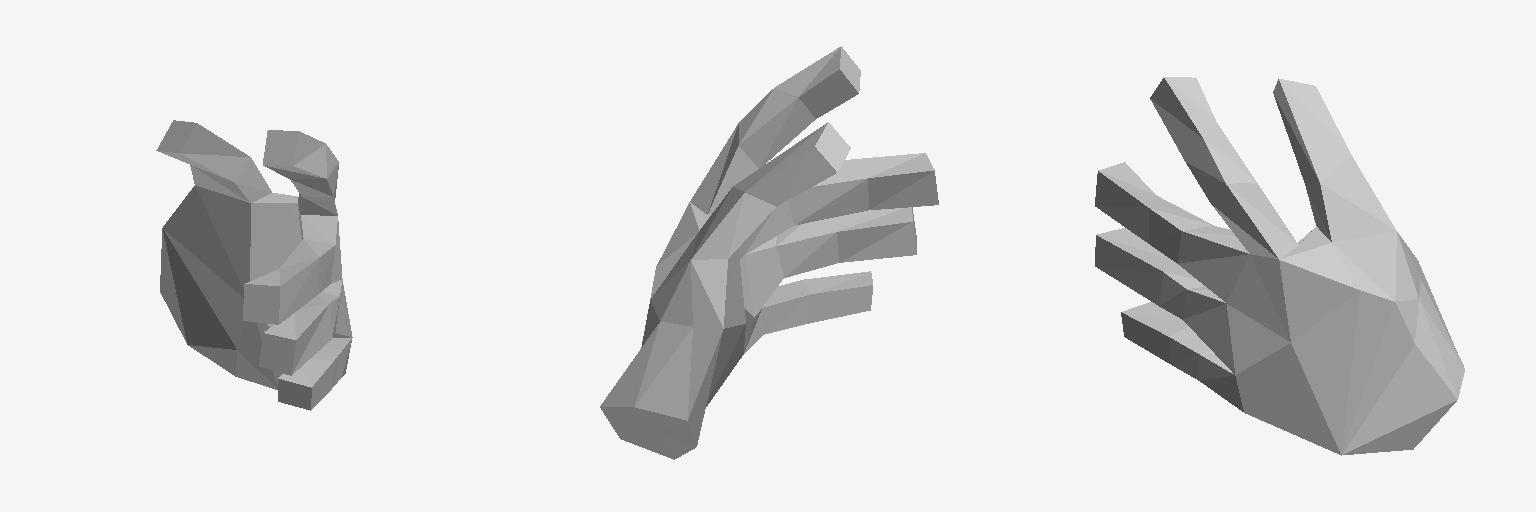
Rendered from ClarinetLeftHand9.obj.
3 renders of one model, left to right at view 1: azimuth 30°, elevation 25°; view 2: azimuth 150°, elevation 25°; view 3: azimuth 270°, elevation 25°, orthographic.
Parts seen in each view (by area): view 1: ClarinetLeftHand10_RecorderHandLeft0.014; view 2: ClarinetLeftHand10_RecorderHandLeft0.014; view 3: ClarinetLeftHand10_RecorderHandLeft0.014.
Part boxes in pixels (x1,y1,x2,y2): ClarinetLeftHand10_RecorderHandLeft0.014: (156,120,352,410); ClarinetLeftHand10_RecorderHandLeft0.014: (600,46,938,459); ClarinetLeftHand10_RecorderHandLeft0.014: (1095,77,1464,455).
Size of the model in its own units: 3 by 5.34 by 5.23.